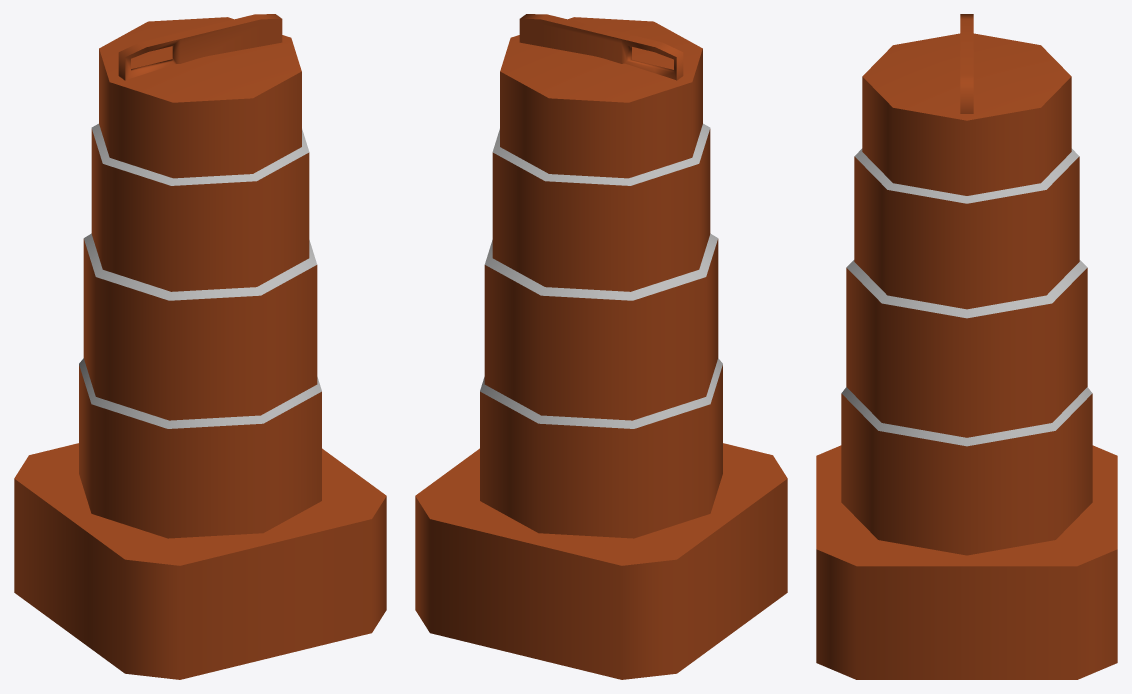
File: CityObjects.fbx_TrafficCone.fbx
3 renders of one model, left to right at view 1: azimuth 30°, elevation 25°; view 2: azimuth 150°, elevation 25°; view 3: azimuth 270°, elevation 25°, orthographic.
Visible parts, largest first — view 1: TrafficCone; view 2: TrafficCone; view 3: TrafficCone.
Part boxes in pixels (<box>): TrafficCone: <box>14,14,386,679</box>; TrafficCone: <box>415,14,787,679</box>; TrafficCone: <box>816,14,1117,679</box>.
Bounding box in the file's own units: 48 × 99.96 × 48.
